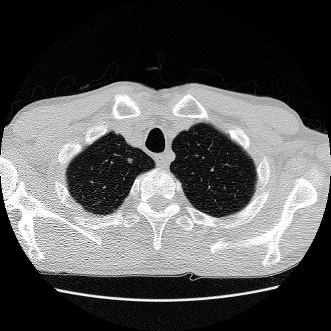PN: (127, 157, 133, 163)
